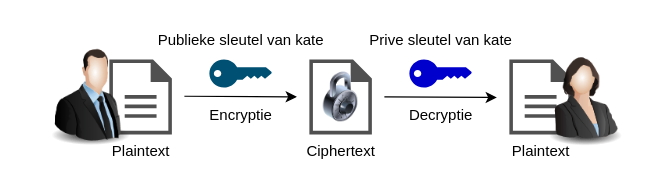
Image size: 668x181. Some labels were removed from this diagram. The box of each missing label's shape, as (x1, y1, x2, y2) in pixels:
john: (40, 46, 140, 146)
kate: (534, 46, 634, 146)
